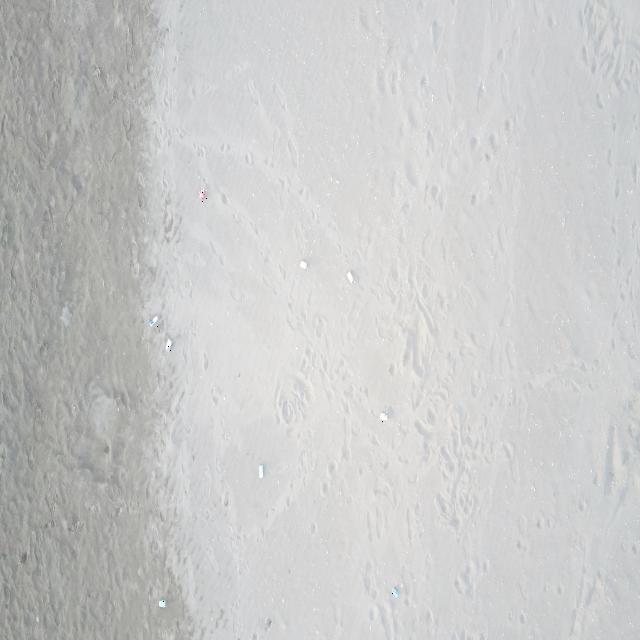tin-and-aluminum-cans: (149, 314, 159, 328), (346, 269, 355, 284), (166, 336, 173, 354), (199, 187, 207, 202), (299, 259, 309, 271), (379, 411, 389, 422), (258, 463, 264, 480), (158, 599, 166, 610), (392, 587, 400, 598)
